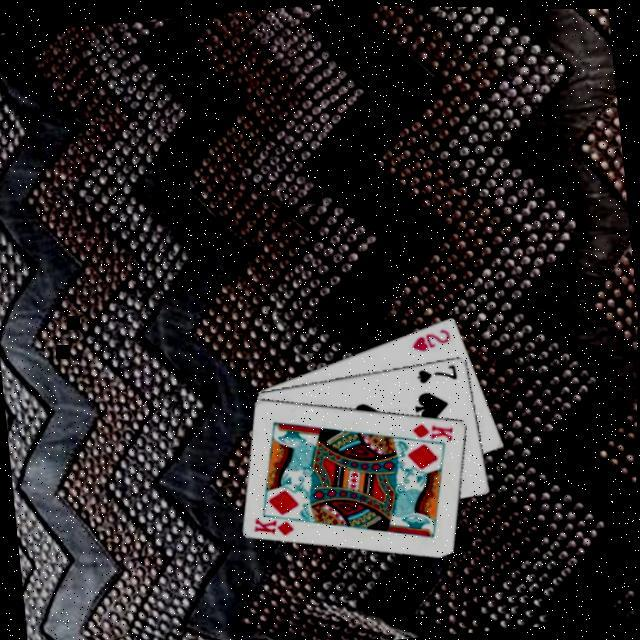2H: (406, 323, 454, 355)
7S: (412, 358, 460, 386)
KD: (408, 416, 457, 448), (250, 509, 296, 541)
